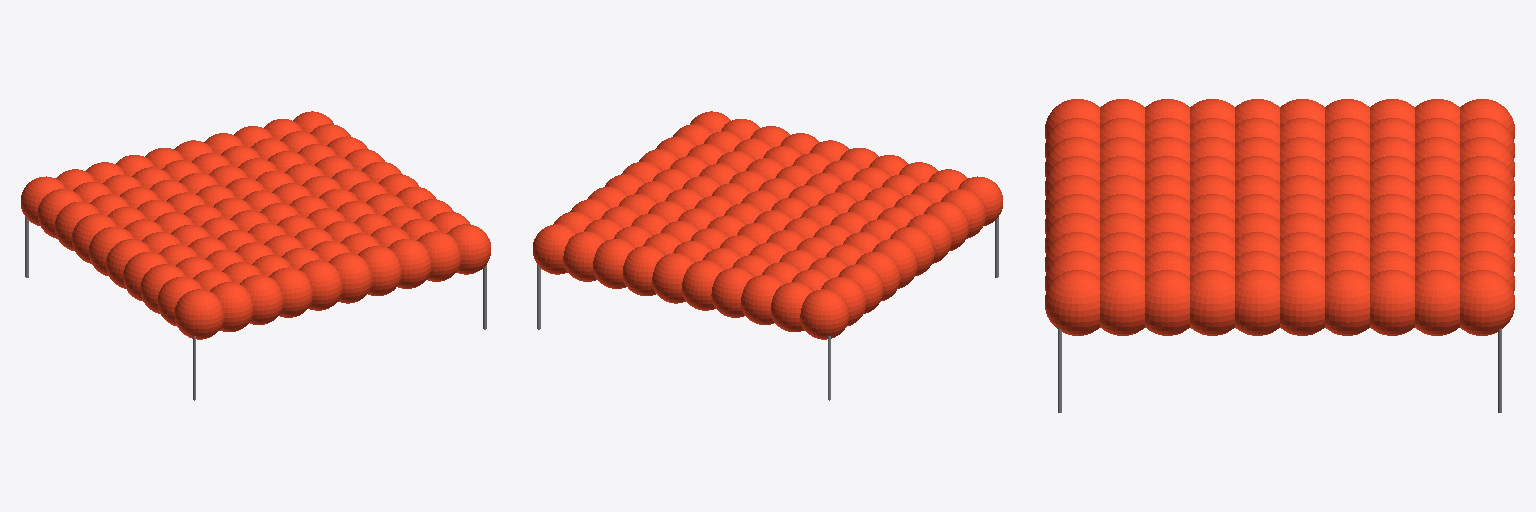
--- What the picture shows (computed from the rendered views, not written in the file) ---
3 views of the same robot in one strip: view 1: azimuth 30°, elevation 25°; view 2: azimuth 150°, elevation 25°; view 3: azimuth 270°, elevation 25° (orthographic).
Robot: box — 3 links, 2 joints (2 fixed); root link link1; default pose: all joints at 0.
Visible links, largest first — view 1: link3, link2; view 2: link3, link2; view 3: link3, link2.
Boxes of the visible links, x1,y1,x2,y2 form: link3: [21, 111, 490, 339]; link2: [25, 217, 486, 400]; link3: [533, 111, 1002, 339]; link2: [537, 217, 998, 400]; link3: [1045, 99, 1514, 335]; link2: [1058, 328, 1501, 412].
Bounding box of the posed robot: 1.05 × 1.05 × 0.324 m (x, y, z).
Geometry: primitives only (box / cylinder / sphere), no mesh files.

robot.urdf — box:
<?xml version="1.0" ?>
<robot name="box">

    <material name="panda_white">
        <color rgba="1. 0.87 0.68 1."/>
    </material>

    <material name="metal">
        <color rgba="0.6 0.6 0.6 1."/>
    </material>

    <material name="orangered">
        <color rgba="1 0.34 0.2 0.5"/>
    </material>


    <link name="link1">
        <inertial>
            <origin rpy="0 0 0" xyz="0 0 0"/>
            <mass value=".0"/>
            <inertia ixx="0" ixy="0" ixz="0" iyy="0" iyz="0" izz="0"/>
        </inertial>

        <visual>
            <origin rpy="0 0 0" xyz="0.0 0 0.25"/>
            <geometry>
                <box size="1.0 1.0 0.005"/>
            </geometry>
            <material name="panda_white"/>
        </visual>
    </link>

    <link name="link2">
        <inertial>
            <origin rpy="0 0 0" xyz="0 0 0"/>
            <mass value=".0"/>
            <inertia ixx="0" ixy="0" ixz="0" iyy="0" iyz="0" izz="0"/>
        </inertial>

        <visual>
            <origin rpy="0 0 0" xyz="0.49 0.49 0.125"/>
            <geometry>
                <cylinder radius="0.005" length="0.25"/>
            </geometry>
            <material name="metal"/>
        </visual>

        <visual>
            <origin rpy="0 0 0" xyz="0.49 -0.49 0.125"/>
            <geometry>
                <cylinder radius="0.005" length="0.25"/>
            </geometry>
            <material name="metal"/>
        </visual>

        <visual>
            <origin rpy="0 0 0" xyz="-0.49 0.49 0.125"/>
            <geometry>
                <cylinder radius="0.005" length="0.25"/>
            </geometry>
            <material name="metal"/>
        </visual>

        <visual>
            <origin rpy="0 0 0" xyz="-0.49 -0.49 0.125"/>
            <geometry>
                <cylinder radius="0.005" length="0.25"/>
            </geometry>
            <material name="metal"/>
        </visual>

    </link>
    

    <link name="link3">
        <inertial>
            <origin rpy="0 0 0" xyz="0 0 0"/>
            <mass value=".0"/>
            <inertia ixx="0" ixy="0" ixz="0" iyy="0" iyz="0" izz="0"/>
        </inertial>

        <visual>
            <origin rpy="0 0 0" xyz="-0.45 -0.45 0.25"/>
            <geometry>
                <sphere radius="0.074"/>
            </geometry>
            <material name="orangered"/>
        </visual>

        <visual>
            <origin rpy="0 0 0" xyz="-0.35 -0.45 0.25"/>
            <geometry>
                <sphere radius="0.074"/>
            </geometry>
            <material name="orangered"/>
        </visual>

        <visual>
            <origin rpy="0 0 0" xyz="-0.25 -0.45 0.25"/>
            <geometry>
                <sphere radius="0.074"/>
            </geometry>
            <material name="orangered"/>
        </visual>

        <visual>
            <origin rpy="0 0 0" xyz="-0.15 -0.45 0.25"/>
            <geometry>
                <sphere radius="0.074"/>
            </geometry>
            <material name="orangered"/>
        </visual>

        <visual>
            <origin rpy="0 0 0" xyz="-0.05 -0.45 0.25"/>
            <geometry>
                <sphere radius="0.074"/>
            </geometry>
            <material name="orangered"/>
        </visual>

        <visual>
            <origin rpy="0 0 0" xyz="0.05 -0.45 0.25"/>
            <geometry>
                <sphere radius="0.074"/>
            </geometry>
            <material name="orangered"/>
        </visual>

        <visual>
            <origin rpy="0 0 0" xyz="0.15 -0.45 0.25"/>
            <geometry>
                <sphere radius="0.074"/>
            </geometry>
            <material name="orangered"/>
        </visual>

        <visual>
            <origin rpy="0 0 0" xyz="0.25 -0.45 0.25"/>
            <geometry>
                <sphere radius="0.074"/>
            </geometry>
            <material name="orangered"/>
        </visual>

        <visual>
            <origin rpy="0 0 0" xyz="0.35 -0.45 0.25"/>
            <geometry>
                <sphere radius="0.074"/>
            </geometry>
            <material name="orangered"/>
        </visual>

        <visual>
            <origin rpy="0 0 0" xyz="0.45 -0.45 0.25"/>
            <geometry>
                <sphere radius="0.074"/>
            </geometry>
            <material name="orangered"/>
        </visual>

        <visual>
            <origin rpy="0 0 0" xyz="-0.45 -0.35 0.25"/>
            <geometry>
                <sphere radius="0.074"/>
            </geometry>
            <material name="orangered"/>
        </visual>

        <visual>
            <origin rpy="0 0 0" xyz="-0.35 -0.35 0.25"/>
            <geometry>
                <sphere radius="0.074"/>
            </geometry>
            <material name="orangered"/>
        </visual>

        <visual>
            <origin rpy="0 0 0" xyz="-0.25 -0.35 0.25"/>
            <geometry>
                <sphere radius="0.074"/>
            </geometry>
            <material name="orangered"/>
        </visual>

        <visual>
            <origin rpy="0 0 0" xyz="-0.15 -0.35 0.25"/>
            <geometry>
                <sphere radius="0.074"/>
            </geometry>
            <material name="orangered"/>
        </visual>

        <visual>
            <origin rpy="0 0 0" xyz="-0.05 -0.35 0.25"/>
            <geometry>
                <sphere radius="0.074"/>
            </geometry>
            <material name="orangered"/>
        </visual>

        <visual>
            <origin rpy="0 0 0" xyz="0.05 -0.35 0.25"/>
            <geometry>
                <sphere radius="0.074"/>
            </geometry>
            <material name="orangered"/>
        </visual>

        <visual>
            <origin rpy="0 0 0" xyz="0.15 -0.35 0.25"/>
            <geometry>
                <sphere radius="0.074"/>
            </geometry>
            <material name="orangered"/>
        </visual>

        <visual>
            <origin rpy="0 0 0" xyz="0.25 -0.35 0.25"/>
            <geometry>
                <sphere radius="0.074"/>
            </geometry>
            <material name="orangered"/>
        </visual>

        <visual>
            <origin rpy="0 0 0" xyz="0.35 -0.35 0.25"/>
            <geometry>
                <sphere radius="0.074"/>
            </geometry>
            <material name="orangered"/>
        </visual>

        <visual>
            <origin rpy="0 0 0" xyz="0.45 -0.35 0.25"/>
            <geometry>
                <sphere radius="0.074"/>
            </geometry>
            <material name="orangered"/>
        </visual>

        <visual>
            <origin rpy="0 0 0" xyz="-0.45 -0.25 0.25"/>
            <geometry>
                <sphere radius="0.074"/>
            </geometry>
            <material name="orangered"/>
        </visual>

        <visual>
            <origin rpy="0 0 0" xyz="-0.35 -0.25 0.25"/>
            <geometry>
                <sphere radius="0.074"/>
            </geometry>
            <material name="orangered"/>
        </visual>

        <visual>
            <origin rpy="0 0 0" xyz="-0.25 -0.25 0.25"/>
            <geometry>
                <sphere radius="0.074"/>
            </geometry>
            <material name="orangered"/>
        </visual>

        <visual>
            <origin rpy="0 0 0" xyz="-0.15 -0.25 0.25"/>
            <geometry>
                <sphere radius="0.074"/>
            </geometry>
            <material name="orangered"/>
        </visual>

        <visual>
            <origin rpy="0 0 0" xyz="-0.05 -0.25 0.25"/>
            <geometry>
                <sphere radius="0.074"/>
            </geometry>
            <material name="orangered"/>
        </visual>

        <visual>
            <origin rpy="0 0 0" xyz="0.05 -0.25 0.25"/>
            <geometry>
                <sphere radius="0.074"/>
            </geometry>
            <material name="orangered"/>
        </visual>

        <visual>
            <origin rpy="0 0 0" xyz="0.15 -0.25 0.25"/>
            <geometry>
                <sphere radius="0.074"/>
            </geometry>
            <material name="orangered"/>
        </visual>

        <visual>
            <origin rpy="0 0 0" xyz="0.25 -0.25 0.25"/>
            <geometry>
                <sphere radius="0.074"/>
            </geometry>
            <material name="orangered"/>
        </visual>

        <visual>
            <origin rpy="0 0 0" xyz="0.35 -0.25 0.25"/>
            <geometry>
                <sphere radius="0.074"/>
            </geometry>
            <material name="orangered"/>
        </visual>

        <visual>
            <origin rpy="0 0 0" xyz="0.45 -0.25 0.25"/>
            <geometry>
                <sphere radius="0.074"/>
            </geometry>
            <material name="orangered"/>
        </visual>

        <visual>
            <origin rpy="0 0 0" xyz="-0.45 -0.15 0.25"/>
            <geometry>
                <sphere radius="0.074"/>
            </geometry>
            <material name="orangered"/>
        </visual>

        <visual>
            <origin rpy="0 0 0" xyz="-0.35 -0.15 0.25"/>
            <geometry>
                <sphere radius="0.074"/>
            </geometry>
            <material name="orangered"/>
        </visual>

        <visual>
            <origin rpy="0 0 0" xyz="-0.25 -0.15 0.25"/>
            <geometry>
                <sphere radius="0.074"/>
            </geometry>
            <material name="orangered"/>
        </visual>

        <visual>
            <origin rpy="0 0 0" xyz="-0.15 -0.15 0.25"/>
            <geometry>
                <sphere radius="0.074"/>
            </geometry>
            <material name="orangered"/>
        </visual>

        <visual>
            <origin rpy="0 0 0" xyz="-0.05 -0.15 0.25"/>
            <geometry>
                <sphere radius="0.074"/>
            </geometry>
            <material name="orangered"/>
        </visual>

        <visual>
            <origin rpy="0 0 0" xyz="0.05 -0.15 0.25"/>
            <geometry>
                <sphere radius="0.074"/>
            </geometry>
            <material name="orangered"/>
        </visual>

        <visual>
            <origin rpy="0 0 0" xyz="0.15 -0.15 0.25"/>
            <geometry>
                <sphere radius="0.074"/>
            </geometry>
            <material name="orangered"/>
        </visual>

        <visual>
            <origin rpy="0 0 0" xyz="0.25 -0.15 0.25"/>
            <geometry>
                <sphere radius="0.074"/>
            </geometry>
            <material name="orangered"/>
        </visual>

        <visual>
            <origin rpy="0 0 0" xyz="0.35 -0.15 0.25"/>
            <geometry>
                <sphere radius="0.074"/>
            </geometry>
            <material name="orangered"/>
        </visual>

        <visual>
            <origin rpy="0 0 0" xyz="0.45 -0.15 0.25"/>
            <geometry>
                <sphere radius="0.074"/>
            </geometry>
            <material name="orangered"/>
        </visual>

        <visual>
            <origin rpy="0 0 0" xyz="-0.45 -0.05 0.25"/>
            <geometry>
                <sphere radius="0.074"/>
            </geometry>
            <material name="orangered"/>
        </visual>

        <visual>
            <origin rpy="0 0 0" xyz="-0.35 -0.05 0.25"/>
            <geometry>
                <sphere radius="0.074"/>
            </geometry>
            <material name="orangered"/>
        </visual>

        <visual>
            <origin rpy="0 0 0" xyz="-0.25 -0.05 0.25"/>
            <geometry>
                <sphere radius="0.074"/>
            </geometry>
            <material name="orangered"/>
        </visual>

        <visual>
            <origin rpy="0 0 0" xyz="-0.15 -0.05 0.25"/>
            <geometry>
                <sphere radius="0.074"/>
            </geometry>
            <material name="orangered"/>
        </visual>

        <visual>
            <origin rpy="0 0 0" xyz="-0.05 -0.05 0.25"/>
            <geometry>
                <sphere radius="0.074"/>
            </geometry>
            <material name="orangered"/>
        </visual>

        <visual>
            <origin rpy="0 0 0" xyz="0.05 -0.05 0.25"/>
            <geometry>
                <sphere radius="0.074"/>
            </geometry>
            <material name="orangered"/>
        </visual>

        <visual>
            <origin rpy="0 0 0" xyz="0.15 -0.05 0.25"/>
            <geometry>
                <sphere radius="0.074"/>
            </geometry>
            <material name="orangered"/>
        </visual>

        <visual>
            <origin rpy="0 0 0" xyz="0.25 -0.05 0.25"/>
            <geometry>
                <sphere radius="0.074"/>
            </geometry>
            <material name="orangered"/>
        </visual>

        <visual>
            <origin rpy="0 0 0" xyz="0.35 -0.05 0.25"/>
            <geometry>
                <sphere radius="0.074"/>
            </geometry>
            <material name="orangered"/>
        </visual>

        <visual>
            <origin rpy="0 0 0" xyz="0.45 -0.05 0.25"/>
            <geometry>
                <sphere radius="0.074"/>
            </geometry>
            <material name="orangered"/>
        </visual>

        <visual>
            <origin rpy="0 0 0" xyz="-0.45 0.05 0.25"/>
            <geometry>
                <sphere radius="0.074"/>
            </geometry>
            <material name="orangered"/>
        </visual>

        <visual>
            <origin rpy="0 0 0" xyz="-0.35 0.05 0.25"/>
            <geometry>
                <sphere radius="0.074"/>
            </geometry>
            <material name="orangered"/>
        </visual>

        <visual>
            <origin rpy="0 0 0" xyz="-0.25 0.05 0.25"/>
            <geometry>
                <sphere radius="0.074"/>
            </geometry>
            <material name="orangered"/>
        </visual>

        <visual>
            <origin rpy="0 0 0" xyz="-0.15 0.05 0.25"/>
            <geometry>
                <sphere radius="0.074"/>
            </geometry>
            <material name="orangered"/>
        </visual>

        <visual>
            <origin rpy="0 0 0" xyz="-0.05 0.05 0.25"/>
            <geometry>
                <sphere radius="0.074"/>
            </geometry>
            <material name="orangered"/>
        </visual>

        <visual>
            <origin rpy="0 0 0" xyz="0.05 0.05 0.25"/>
            <geometry>
                <sphere radius="0.074"/>
            </geometry>
            <material name="orangered"/>
        </visual>

        <visual>
            <origin rpy="0 0 0" xyz="0.15 0.05 0.25"/>
            <geometry>
                <sphere radius="0.074"/>
            </geometry>
            <material name="orangered"/>
        </visual>

        <visual>
            <origin rpy="0 0 0" xyz="0.25 0.05 0.25"/>
            <geometry>
                <sphere radius="0.074"/>
            </geometry>
            <material name="orangered"/>
        </visual>

        <visual>
            <origin rpy="0 0 0" xyz="0.35 0.05 0.25"/>
            <geometry>
                <sphere radius="0.074"/>
            </geometry>
            <material name="orangered"/>
        </visual>

        <visual>
            <origin rpy="0 0 0" xyz="0.45 0.05 0.25"/>
            <geometry>
                <sphere radius="0.074"/>
            </geometry>
            <material name="orangered"/>
        </visual>

        <visual>
            <origin rpy="0 0 0" xyz="-0.45 0.15 0.25"/>
            <geometry>
                <sphere radius="0.074"/>
            </geometry>
            <material name="orangered"/>
        </visual>

        <visual>
            <origin rpy="0 0 0" xyz="-0.35 0.15 0.25"/>
            <geometry>
                <sphere radius="0.074"/>
            </geometry>
            <material name="orangered"/>
        </visual>

        <visual>
            <origin rpy="0 0 0" xyz="-0.25 0.15 0.25"/>
            <geometry>
                <sphere radius="0.074"/>
            </geometry>
            <material name="orangered"/>
        </visual>

        <visual>
            <origin rpy="0 0 0" xyz="-0.15 0.15 0.25"/>
            <geometry>
                <sphere radius="0.074"/>
            </geometry>
            <material name="orangered"/>
        </visual>

        <visual>
            <origin rpy="0 0 0" xyz="-0.05 0.15 0.25"/>
            <geometry>
                <sphere radius="0.074"/>
            </geometry>
            <material name="orangered"/>
        </visual>

        <visual>
            <origin rpy="0 0 0" xyz="0.05 0.15 0.25"/>
            <geometry>
                <sphere radius="0.074"/>
            </geometry>
            <material name="orangered"/>
        </visual>

        <visual>
            <origin rpy="0 0 0" xyz="0.15 0.15 0.25"/>
            <geometry>
                <sphere radius="0.074"/>
            </geometry>
            <material name="orangered"/>
        </visual>

        <visual>
            <origin rpy="0 0 0" xyz="0.25 0.15 0.25"/>
            <geometry>
                <sphere radius="0.074"/>
            </geometry>
            <material name="orangered"/>
        </visual>

        <visual>
            <origin rpy="0 0 0" xyz="0.35 0.15 0.25"/>
            <geometry>
                <sphere radius="0.074"/>
            </geometry>
            <material name="orangered"/>
        </visual>

        <visual>
            <origin rpy="0 0 0" xyz="0.45 0.15 0.25"/>
            <geometry>
                <sphere radius="0.074"/>
            </geometry>
            <material name="orangered"/>
        </visual>

        <visual>
            <origin rpy="0 0 0" xyz="-0.45 0.25 0.25"/>
            <geometry>
                <sphere radius="0.074"/>
            </geometry>
            <material name="orangered"/>
        </visual>

        <visual>
            <origin rpy="0 0 0" xyz="-0.35 0.25 0.25"/>
            <geometry>
                <sphere radius="0.074"/>
            </geometry>
            <material name="orangered"/>
        </visual>

        <visual>
            <origin rpy="0 0 0" xyz="-0.25 0.25 0.25"/>
            <geometry>
                <sphere radius="0.074"/>
            </geometry>
            <material name="orangered"/>
        </visual>

        <visual>
            <origin rpy="0 0 0" xyz="-0.15 0.25 0.25"/>
            <geometry>
                <sphere radius="0.074"/>
            </geometry>
            <material name="orangered"/>
        </visual>

        <visual>
            <origin rpy="0 0 0" xyz="-0.05 0.25 0.25"/>
            <geometry>
                <sphere radius="0.074"/>
            </geometry>
            <material name="orangered"/>
        </visual>

        <visual>
            <origin rpy="0 0 0" xyz="0.05 0.25 0.25"/>
            <geometry>
                <sphere radius="0.074"/>
            </geometry>
            <material name="orangered"/>
        </visual>

        <visual>
            <origin rpy="0 0 0" xyz="0.15 0.25 0.25"/>
            <geometry>
                <sphere radius="0.074"/>
            </geometry>
            <material name="orangered"/>
        </visual>

        <visual>
            <origin rpy="0 0 0" xyz="0.25 0.25 0.25"/>
            <geometry>
                <sphere radius="0.074"/>
            </geometry>
            <material name="orangered"/>
        </visual>

        <visual>
            <origin rpy="0 0 0" xyz="0.35 0.25 0.25"/>
            <geometry>
                <sphere radius="0.074"/>
            </geometry>
            <material name="orangered"/>
        </visual>

        <visual>
            <origin rpy="0 0 0" xyz="0.45 0.25 0.25"/>
            <geometry>
                <sphere radius="0.074"/>
            </geometry>
            <material name="orangered"/>
        </visual>

        <visual>
            <origin rpy="0 0 0" xyz="-0.45 0.35 0.25"/>
            <geometry>
                <sphere radius="0.074"/>
            </geometry>
            <material name="orangered"/>
        </visual>

        <visual>
            <origin rpy="0 0 0" xyz="-0.35 0.35 0.25"/>
            <geometry>
                <sphere radius="0.074"/>
            </geometry>
            <material name="orangered"/>
        </visual>

        <visual>
            <origin rpy="0 0 0" xyz="-0.25 0.35 0.25"/>
            <geometry>
                <sphere radius="0.074"/>
            </geometry>
            <material name="orangered"/>
        </visual>

        <visual>
            <origin rpy="0 0 0" xyz="-0.15 0.35 0.25"/>
            <geometry>
                <sphere radius="0.074"/>
            </geometry>
            <material name="orangered"/>
        </visual>

        <visual>
            <origin rpy="0 0 0" xyz="-0.05 0.35 0.25"/>
            <geometry>
                <sphere radius="0.074"/>
            </geometry>
            <material name="orangered"/>
        </visual>

        <visual>
            <origin rpy="0 0 0" xyz="0.05 0.35 0.25"/>
            <geometry>
                <sphere radius="0.074"/>
            </geometry>
            <material name="orangered"/>
        </visual>

        <visual>
            <origin rpy="0 0 0" xyz="0.15 0.35 0.25"/>
            <geometry>
                <sphere radius="0.074"/>
            </geometry>
            <material name="orangered"/>
        </visual>

        <visual>
            <origin rpy="0 0 0" xyz="0.25 0.35 0.25"/>
            <geometry>
                <sphere radius="0.074"/>
            </geometry>
            <material name="orangered"/>
        </visual>

        <visual>
            <origin rpy="0 0 0" xyz="0.35 0.35 0.25"/>
            <geometry>
                <sphere radius="0.074"/>
            </geometry>
            <material name="orangered"/>
        </visual>

        <visual>
            <origin rpy="0 0 0" xyz="0.45 0.35 0.25"/>
            <geometry>
                <sphere radius="0.074"/>
            </geometry>
            <material name="orangered"/>
        </visual>

        <visual>
            <origin rpy="0 0 0" xyz="-0.45 0.45 0.25"/>
            <geometry>
                <sphere radius="0.074"/>
            </geometry>
            <material name="orangered"/>
        </visual>

        <visual>
            <origin rpy="0 0 0" xyz="-0.35 0.45 0.25"/>
            <geometry>
                <sphere radius="0.074"/>
            </geometry>
            <material name="orangered"/>
        </visual>

        <visual>
            <origin rpy="0 0 0" xyz="-0.25 0.45 0.25"/>
            <geometry>
                <sphere radius="0.074"/>
            </geometry>
            <material name="orangered"/>
        </visual>

        <visual>
            <origin rpy="0 0 0" xyz="-0.15 0.45 0.25"/>
            <geometry>
                <sphere radius="0.074"/>
            </geometry>
            <material name="orangered"/>
        </visual>

        <visual>
            <origin rpy="0 0 0" xyz="-0.05 0.45 0.25"/>
            <geometry>
                <sphere radius="0.074"/>
            </geometry>
            <material name="orangered"/>
        </visual>

        <visual>
            <origin rpy="0 0 0" xyz="0.05 0.45 0.25"/>
            <geometry>
                <sphere radius="0.074"/>
            </geometry>
            <material name="orangered"/>
        </visual>

        <visual>
            <origin rpy="0 0 0" xyz="0.15 0.45 0.25"/>
            <geometry>
                <sphere radius="0.074"/>
            </geometry>
            <material name="orangered"/>
        </visual>

        <visual>
            <origin rpy="0 0 0" xyz="0.25 0.45 0.25"/>
            <geometry>
                <sphere radius="0.074"/>
            </geometry>
            <material name="orangered"/>
        </visual>

        <visual>
            <origin rpy="0 0 0" xyz="0.35 0.45 0.25"/>
            <geometry>
                <sphere radius="0.074"/>
            </geometry>
            <material name="orangered"/>
        </visual>

        <visual>
            <origin rpy="0 0 0" xyz="0.45 0.45 0.25"/>
            <geometry>
                <sphere radius="0.074"/>
            </geometry>
            <material name="orangered"/>
        </visual>

    </link>
    

    <joint name="fixed_joint" type="fixed">
        <parent link="link1"/>
        <child link="link2"/>
        <origin xyz="0 0 0" rpy="0 0 0"/>
    </joint>

    <joint name="fixed_joint2" type="fixed">
        <parent link="link1"/>
        <child link="link3"/>
        <origin xyz="0 0 0" rpy="0 0 0"/>
    </joint>
    

</robot>
